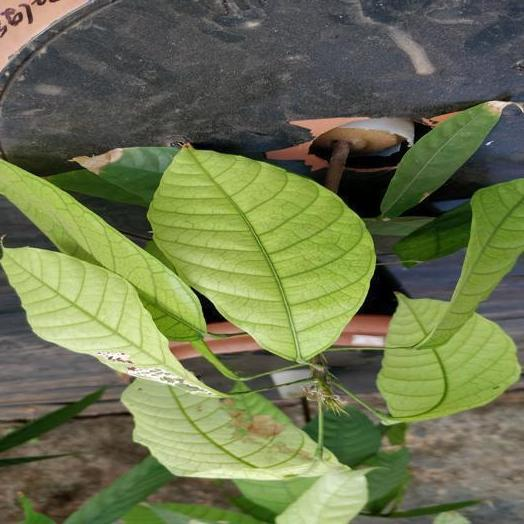Healthy Leaf: (47, 148, 177, 207), (64, 455, 174, 523), (324, 406, 380, 467), (303, 416, 317, 440)
Iron: (148, 147, 374, 359), (0, 160, 204, 339), (1, 247, 222, 395), (121, 378, 339, 479), (377, 296, 519, 420), (424, 179, 523, 345), (276, 470, 365, 523)
